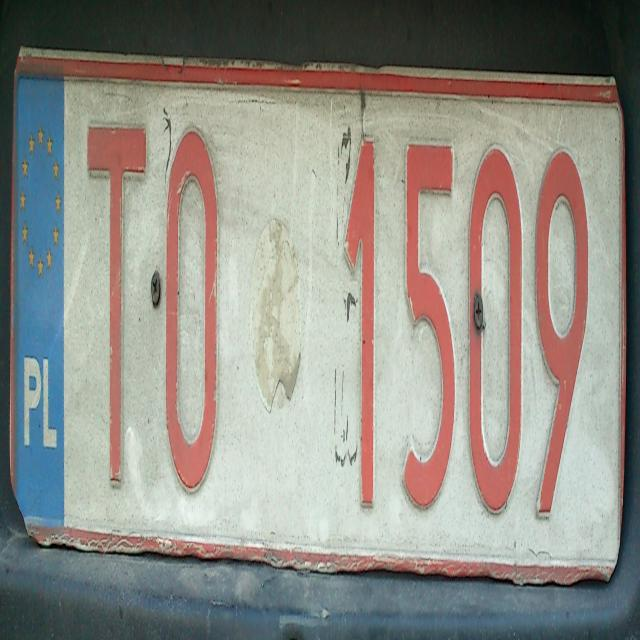pl_license_plate: (16, 70, 621, 572)
